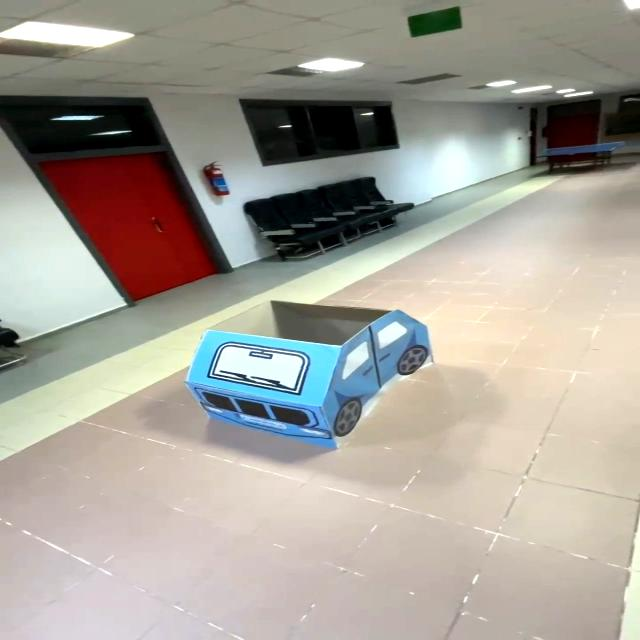blue_car: (153, 284, 464, 467)
